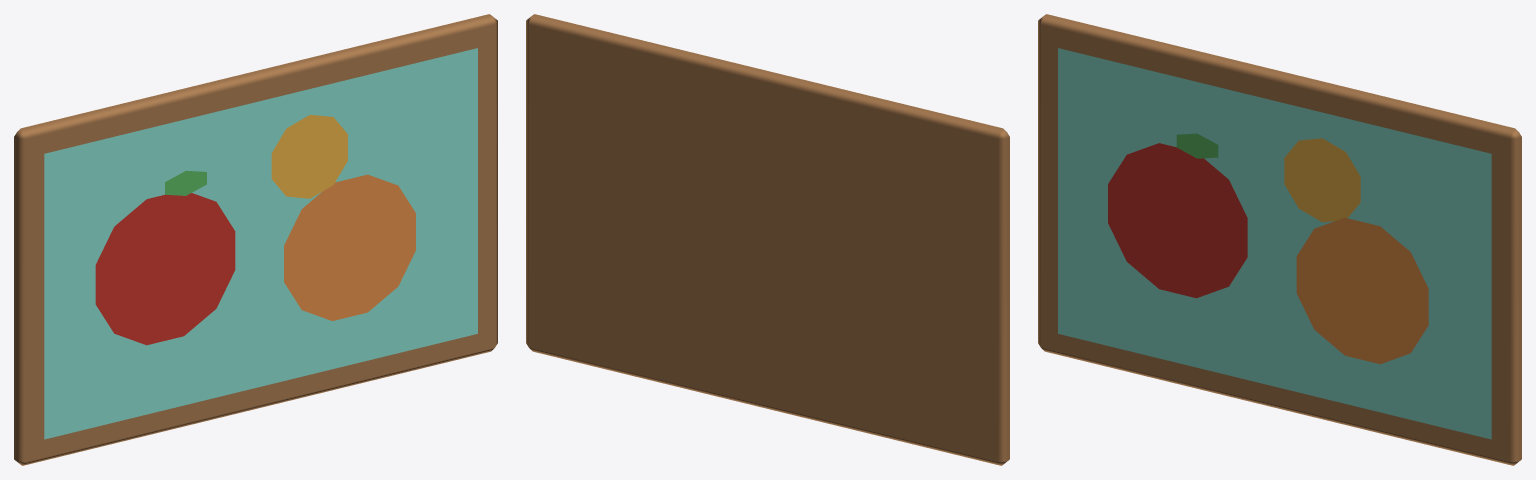
The model's file is CM_Interior_WallDecal.fbx.
The picture shows the model from 3 angles, left to right: view 1: azimuth 30°, elevation 25°; view 2: azimuth 150°, elevation 25°; view 3: azimuth 330°, elevation 25°; orthographic projection.
Parts seen in each view (by area): view 1: Body; view 2: Body; view 3: Body.
Part boxes in pixels (x1,y1,x2,y2): Body: (14, 14, 497, 465); Body: (526, 14, 1009, 465); Body: (1038, 14, 1521, 465).
Size of the model in its own units: 6 by 0.236 by 4.
1 material, 1 textured.
